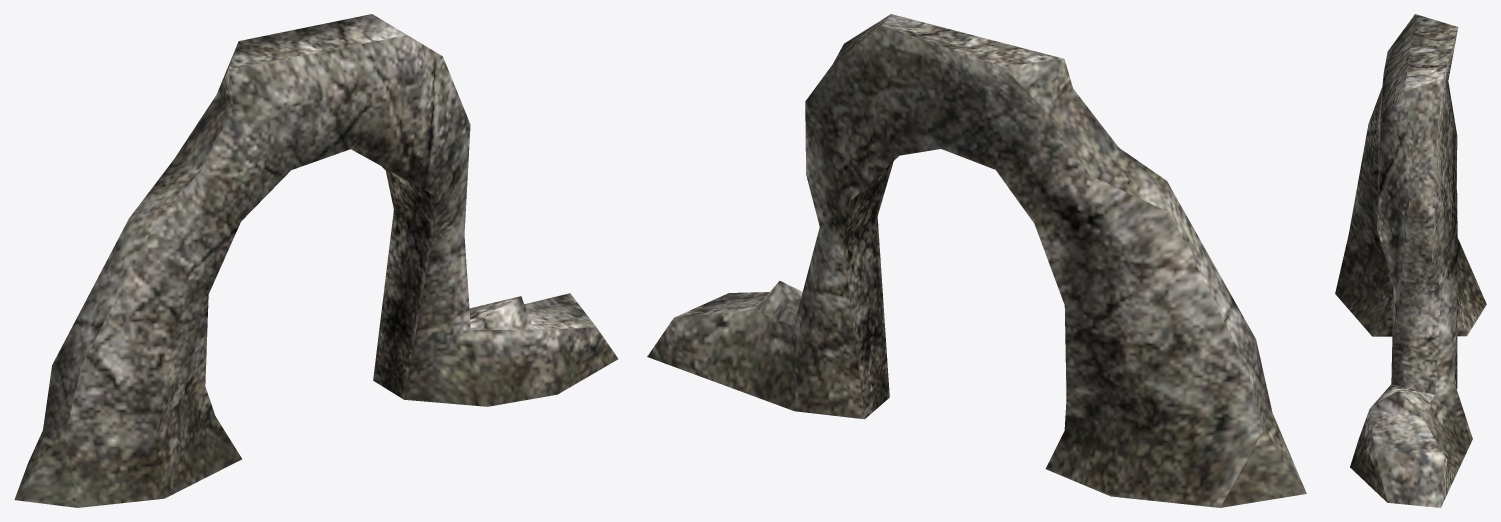
The model's file is general_obj_stone15.glb.
3 views of the same model, side by side, from view 1: azimuth 30°, elevation 25°; view 2: azimuth 150°, elevation 25°; view 3: azimuth 270°, elevation 25° (orthographic). The views are drawn at different scales.
Parts seen in each view (by area): view 1: Sphere01; view 2: Sphere01; view 3: Sphere01.
Boxes of the visible parts, x1=… form: Sphere01: x1=14, y1=14, x2=618, y2=507; Sphere01: x1=647, y1=14, x2=1306, y2=507; Sphere01: x1=1335, y1=14, x2=1486, y2=507.
Bounding box in the file's own units: 12.87 × 7.55 × 3.14.
Materials: 1 (1 with a texture image).
